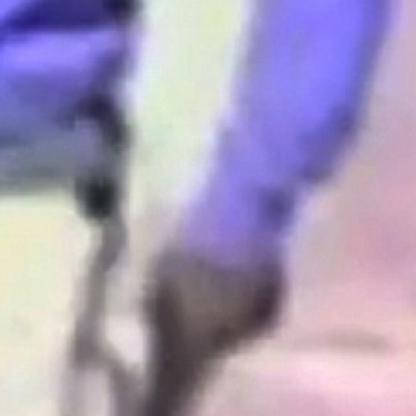gun: (110, 255, 285, 414)
